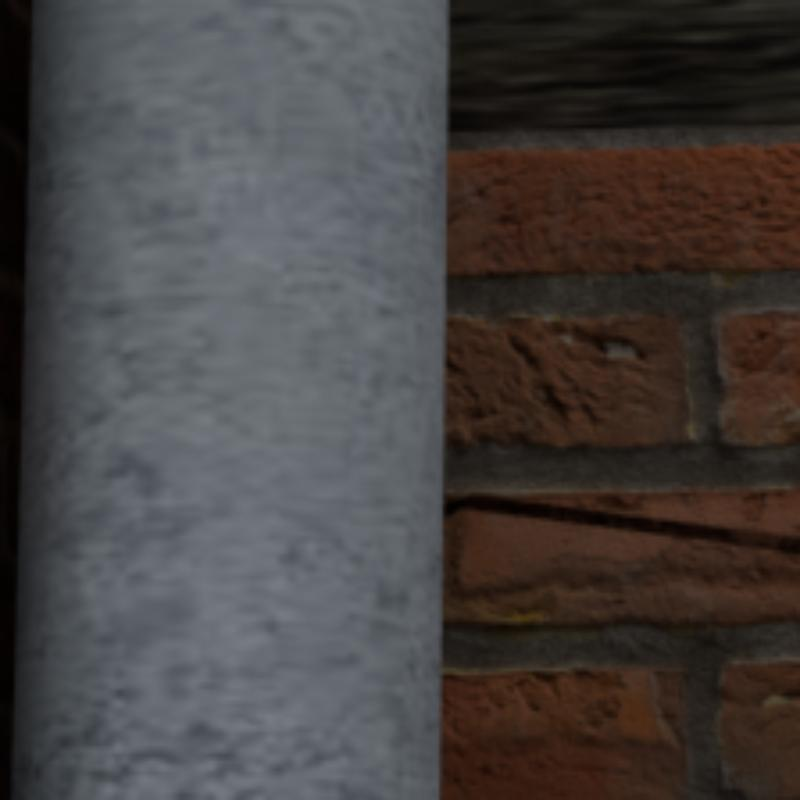crack: (443, 496, 796, 550)
